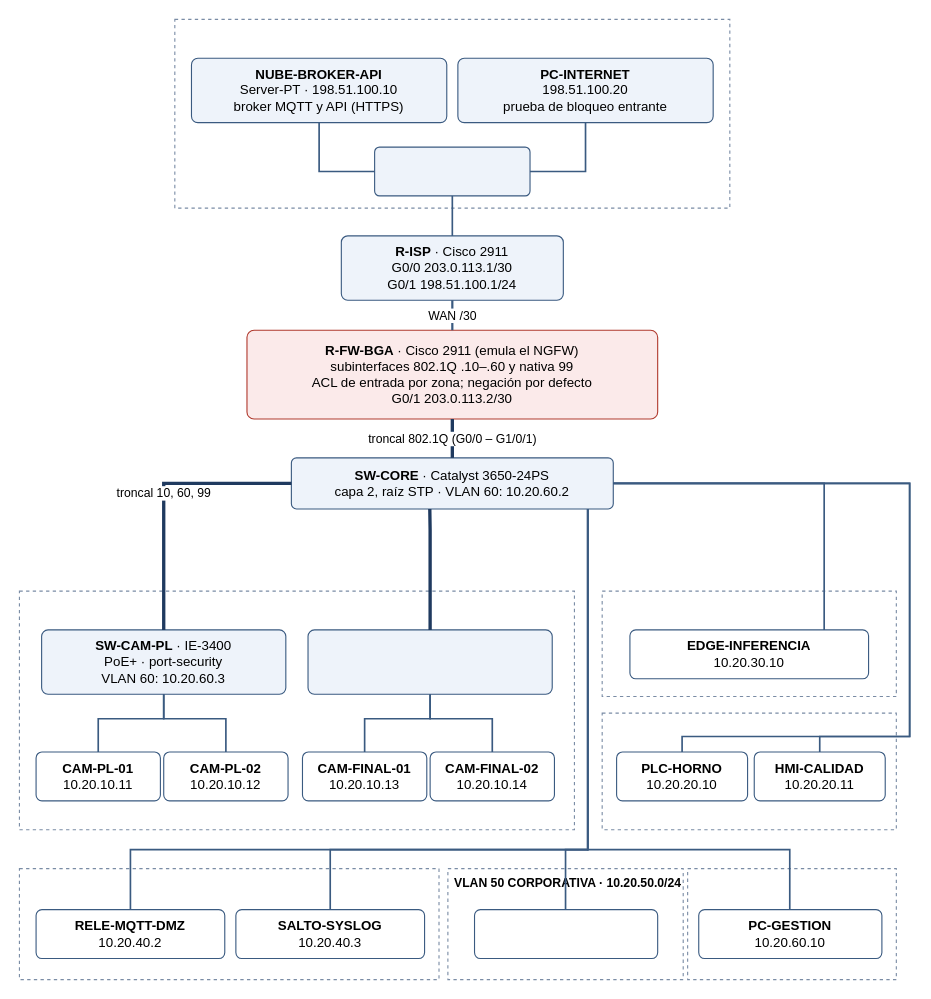
Some shapes in this 931 by 999 pixel diagram are drawn without their labels. The box of each missing label's shape, as (x1, y1, x2, y2) in pixels:
Internet de laboratorio · 198.51.100.0/24: (174, 18, 730, 208)
PC-CORPORATIVA 10.20.50.10: (473, 909, 658, 958)
SW-CAM-FINAL · IE-3400 PoE+ · port-security VLAN 60: 10.20.60.4: (307, 629, 552, 694)
SW-INTERNET Catalyst 3650: (374, 146, 530, 196)
VLAN 10 OT-CAMARAS · 10.20.10.0/27: (18, 590, 574, 830)
VLAN 20 OT-CONTROL · 10.20.20.0/26: (601, 712, 896, 830)
VLAN 30 OT-BORDE · 10.20.30.0/28: (601, 590, 896, 697)
VLAN 40 DMZ-IND · 10.20.40.0/29: (18, 867, 439, 980)
VLAN 60 GESTION · 10.20.60.0/28: (687, 867, 896, 980)
